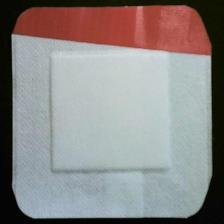Dressing: (8, 4, 216, 223)
Red_T: (10, 4, 218, 60)
